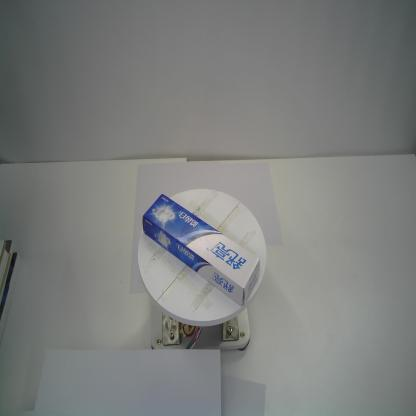Personal Hygiene: (142, 193, 260, 306)
